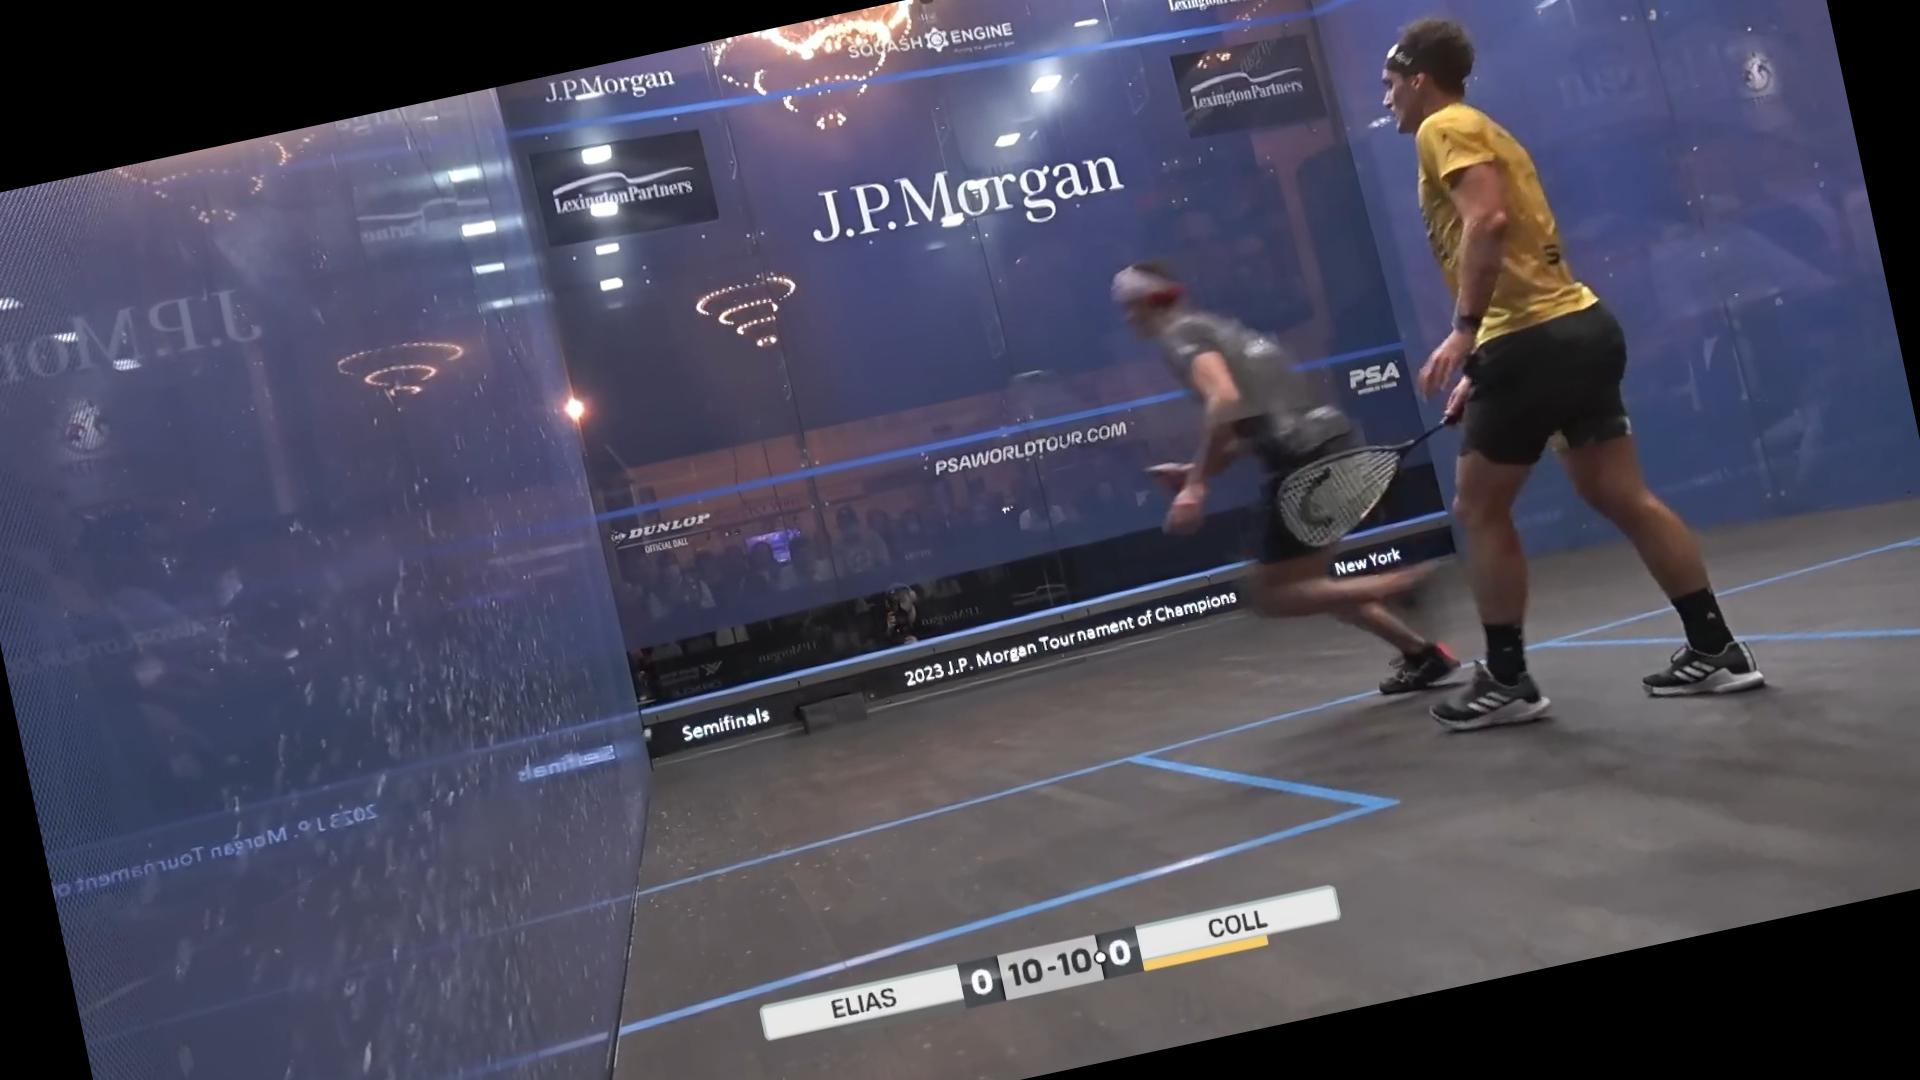Racket: (1254, 406, 1484, 562)
